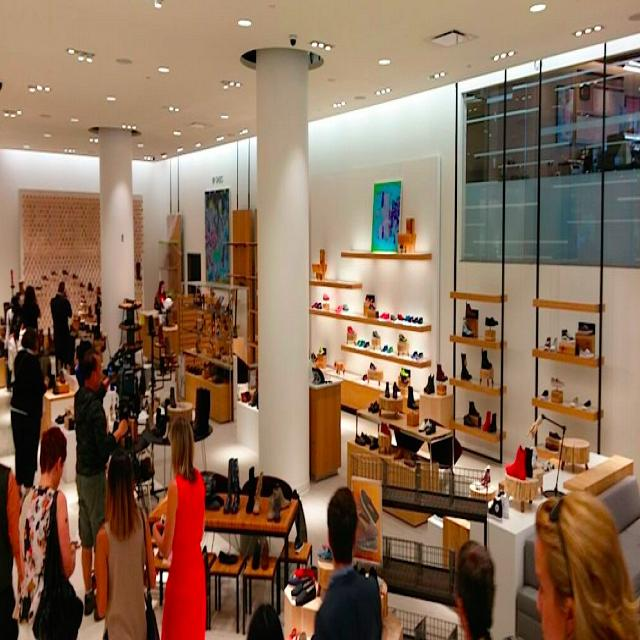body: (446, 487, 640, 640), (12, 424, 86, 639), (74, 348, 130, 623), (93, 441, 161, 639), (151, 413, 207, 639), (308, 482, 386, 639), (10, 326, 50, 501), (0, 463, 23, 640), (48, 277, 73, 388), (8, 310, 29, 435), (8, 305, 29, 424), (245, 601, 283, 640), (3, 293, 16, 392), (556, 82, 574, 143), (19, 285, 41, 331), (214, 194, 227, 269), (75, 333, 87, 385), (154, 279, 167, 326), (98, 378, 114, 401), (86, 338, 102, 356)
